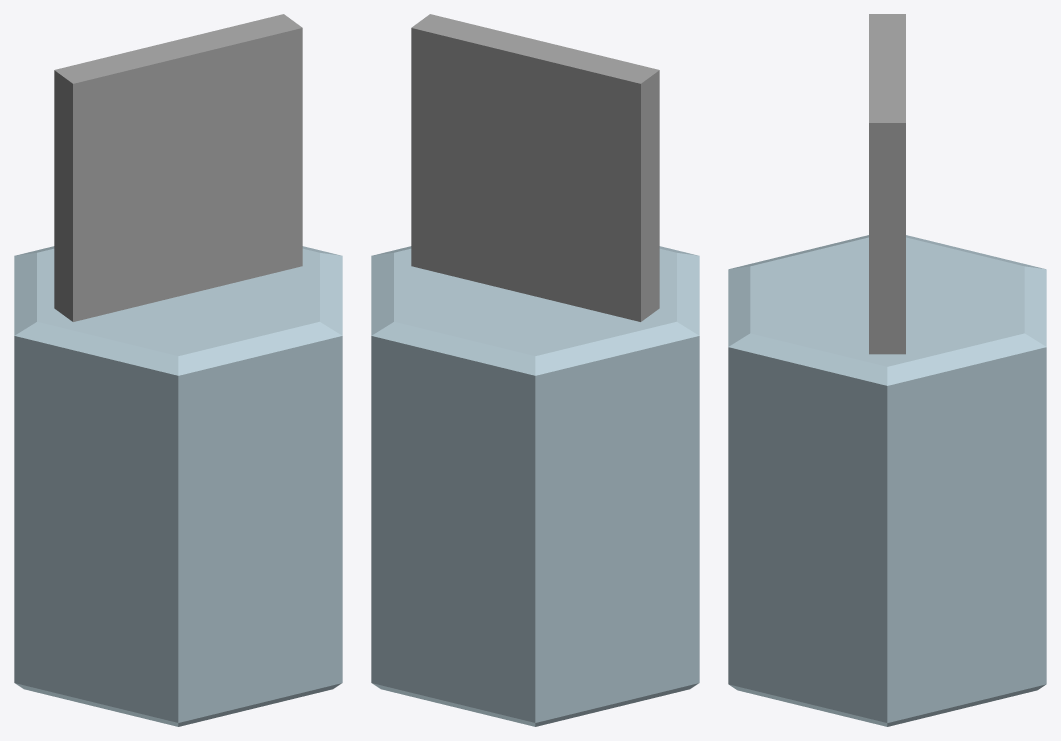
The model's file is FlatMirrorTileCollide.fbx.
3 renders of one model, left to right at view 1: azimuth 30°, elevation 25°; view 2: azimuth 150°, elevation 25°; view 3: azimuth 270°, elevation 25°, orthographic. The views are drawn at different scales.
Parts seen in each view (by area): view 1: Hex, pCube1; view 2: Hex, pCube1; view 3: Hex, pCube1.
Boxes of the visible parts, left/top/right/bottom form: Hex: left=14, top=246, right=342, bottom=726; pCube1: left=54, top=14, right=302, bottom=321; Hex: left=371, top=246, right=699, bottom=726; pCube1: left=411, top=14, right=659, bottom=321; Hex: left=728, top=235, right=1046, bottom=726; pCube1: left=869, top=14, right=905, bottom=354.
Size of the model in its own units: 10 by 17.55 by 8.66.
